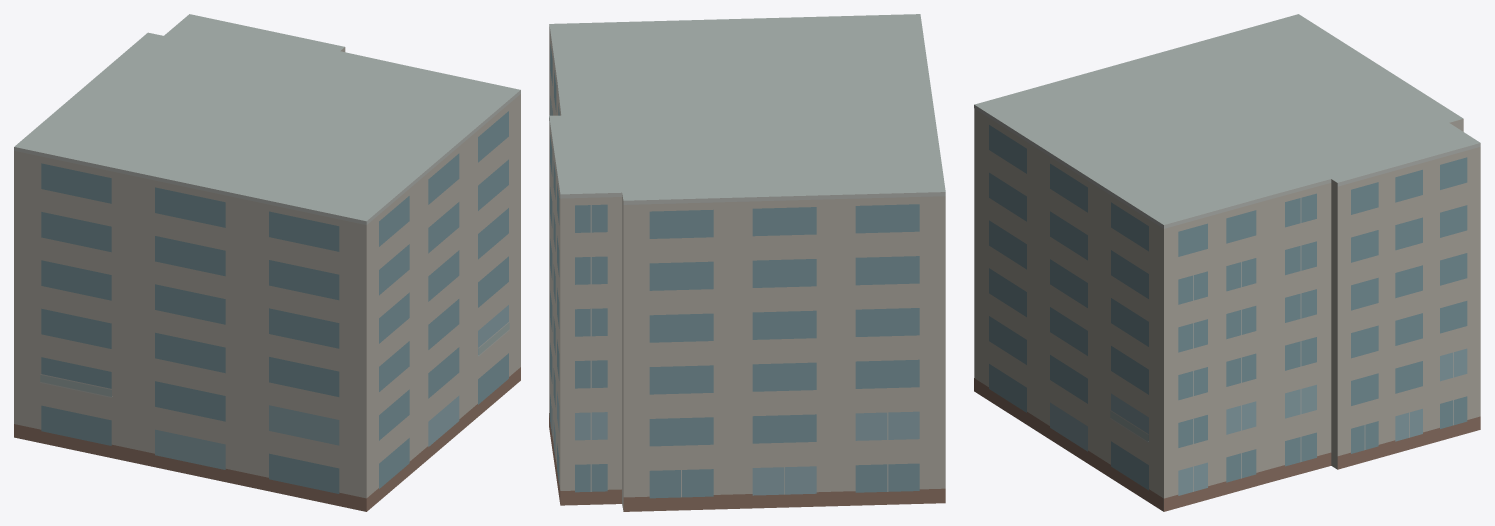
The model's file is survey-upis-32932123.glb.
3 renders of one model, left to right at view 1: azimuth 30°, elevation 25°; view 2: azimuth 150°, elevation 25°; view 3: azimuth 270°, elevation 25°, orthographic. The views are drawn at different scales.
Parts seen in each view (by area): view 1: survey-upis-32932123.tmp; view 2: survey-upis-32932123.tmp; view 3: survey-upis-32932123.tmp.
Boxes of the visible parts, bbox=[...] form: survey-upis-32932123.tmp: bbox=[14, 14, 520, 511]; survey-upis-32932123.tmp: bbox=[549, 14, 945, 511]; survey-upis-32932123.tmp: bbox=[974, 14, 1480, 511].
Size of the model in its own units: 28.9 by 18.3 by 29.3.
